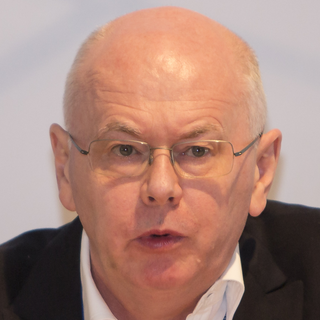eye: (103, 139, 149, 163), (175, 140, 221, 163)
